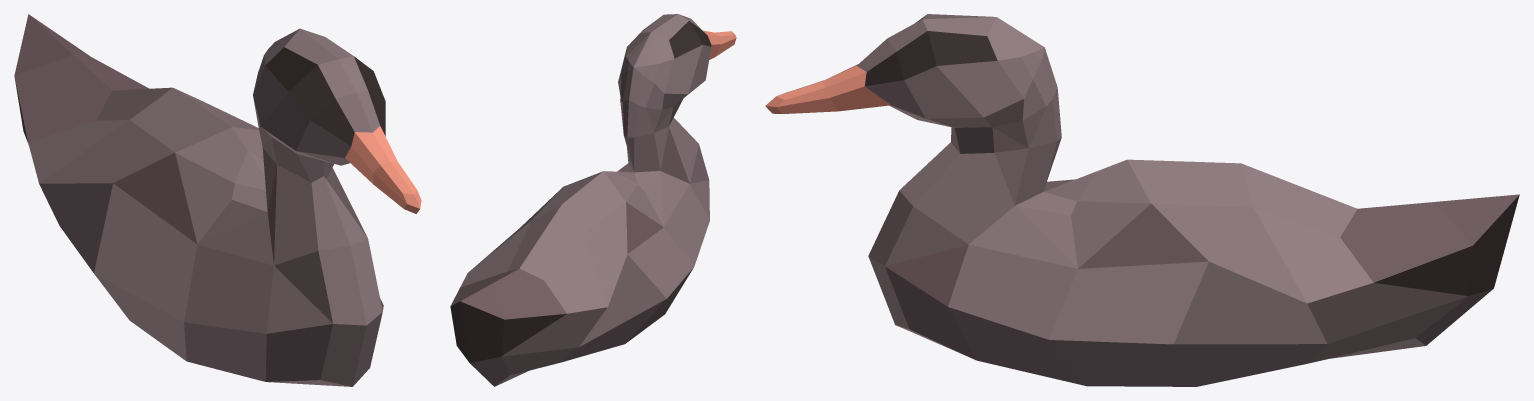
Rendered from parc_duckF.fbx.
3 renders of one model, left to right at view 1: azimuth 30°, elevation 25°; view 2: azimuth 150°, elevation 25°; view 3: azimuth 270°, elevation 25°, orthographic. The views are drawn at different scales.
Visible parts, largest first — view 1: duck_female; view 2: duck_female; view 3: duck_female.
Part boxes in pixels (x1=…): duck_female: x1=14, y1=14, x2=421, y2=386; duck_female: x1=450, y1=14, x2=736, y2=386; duck_female: x1=765, y1=14, x2=1519, y2=386.
Size of the model in its own units: 28.02 by 42.48 by 83.14.
